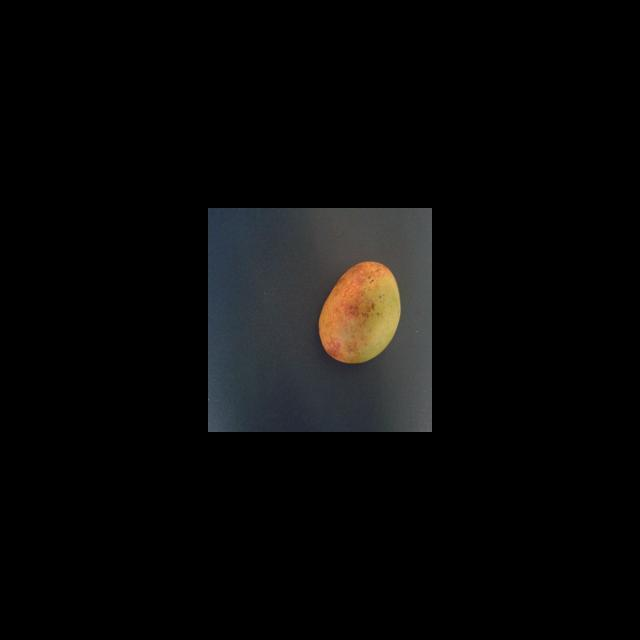Mango: (318, 260, 401, 364)
